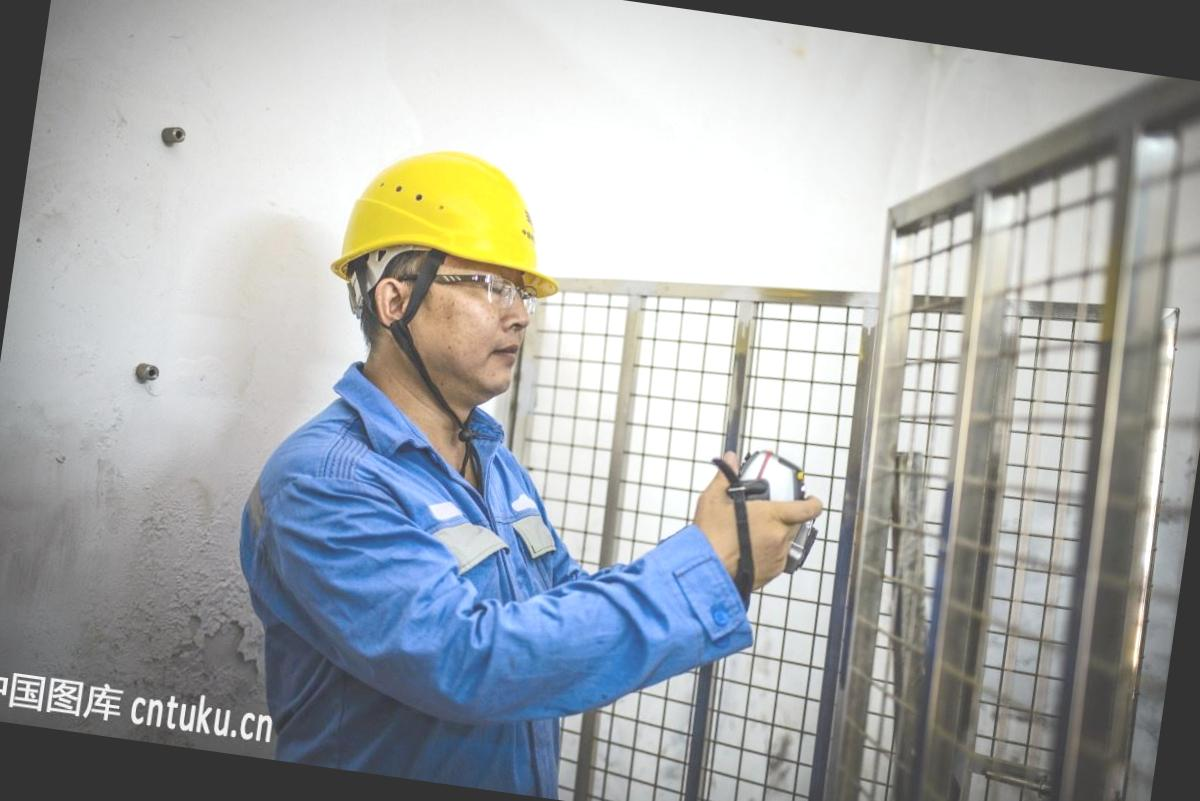helmet: (320, 121, 583, 336)
no_vest: (231, 362, 593, 741)
person: (215, 122, 694, 749)
